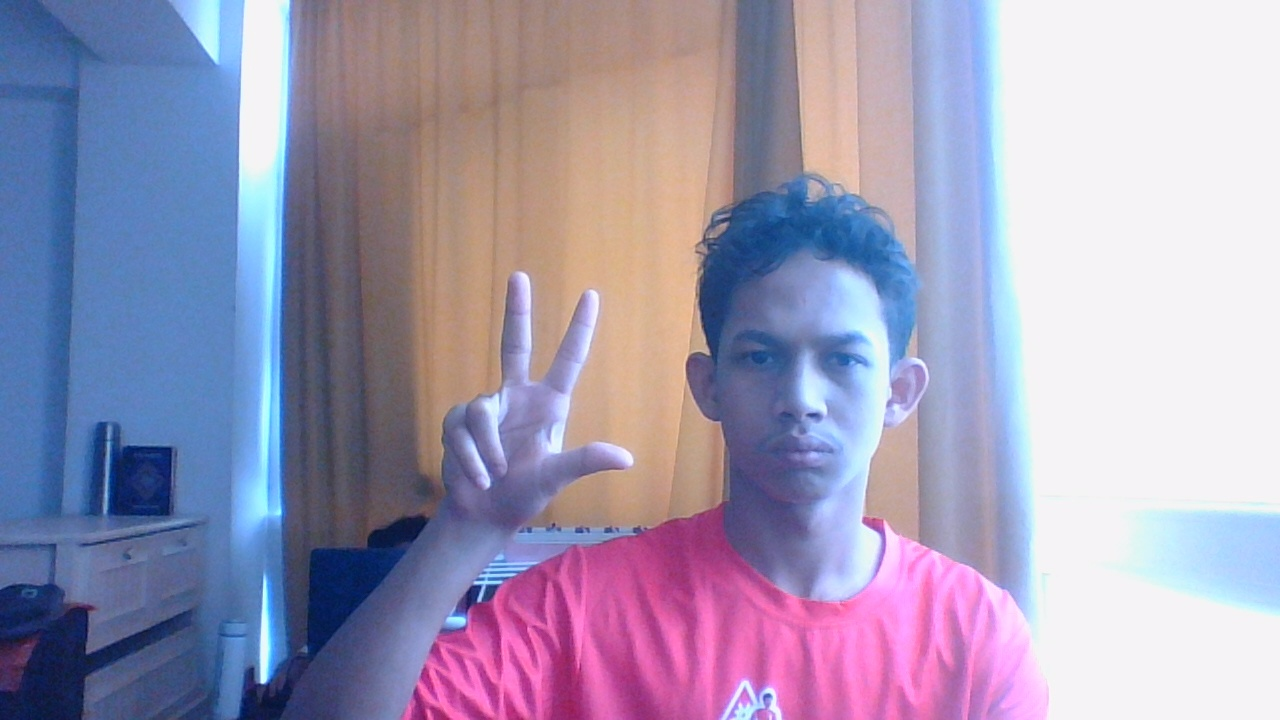yes: (435, 248, 637, 536)
